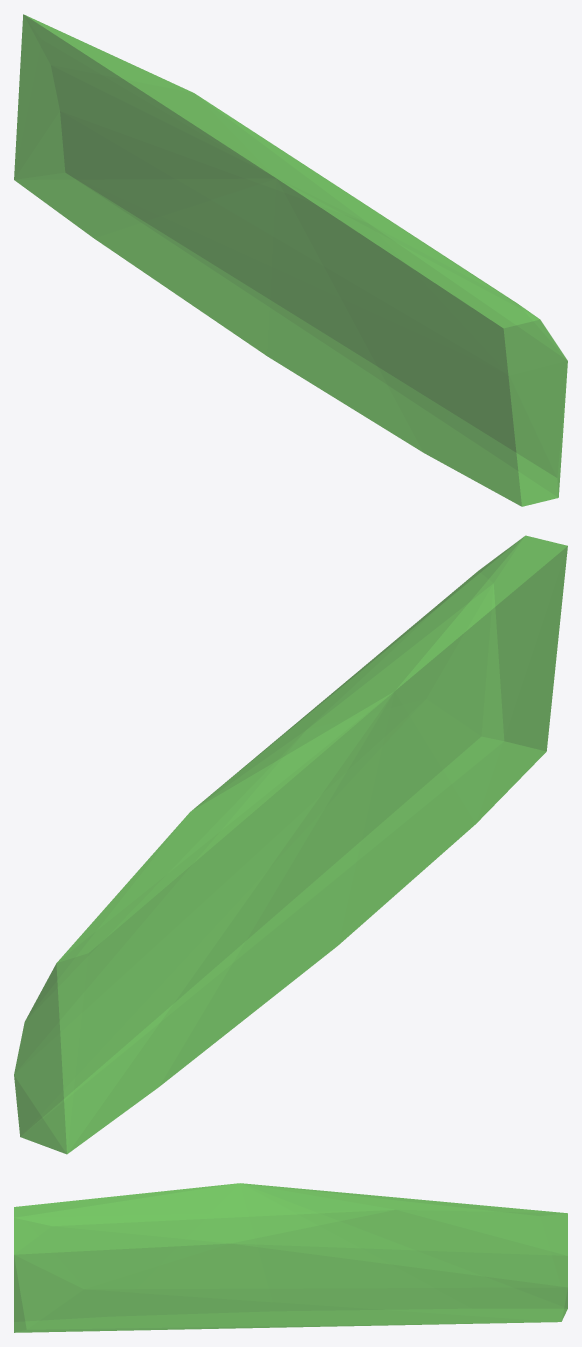
The picture shows the model from 3 angles, top to bottom: view 1: azimuth 30°, elevation 25°; view 2: azimuth 150°, elevation 25°; view 3: azimuth 270°, elevation 25°; orthographic projection. The views are drawn at different scales.
Visible parts, largest first — view 1: Shape_IndexedFaceSet.014_Shape_IndexedFaceSet.1979; view 2: Shape_IndexedFaceSet.014_Shape_IndexedFaceSet.1979; view 3: Shape_IndexedFaceSet.014_Shape_IndexedFaceSet.1979.
Part boxes in pixels (box(x1,y1,x2,y2)): Shape_IndexedFaceSet.014_Shape_IndexedFaceSet.1979: box(14, 14, 567, 506); Shape_IndexedFaceSet.014_Shape_IndexedFaceSet.1979: box(14, 535, 567, 1154); Shape_IndexedFaceSet.014_Shape_IndexedFaceSet.1979: box(14, 1183, 567, 1332).
Size of the model in its own units: 0.0594 by 0.1128 by 0.4626.
